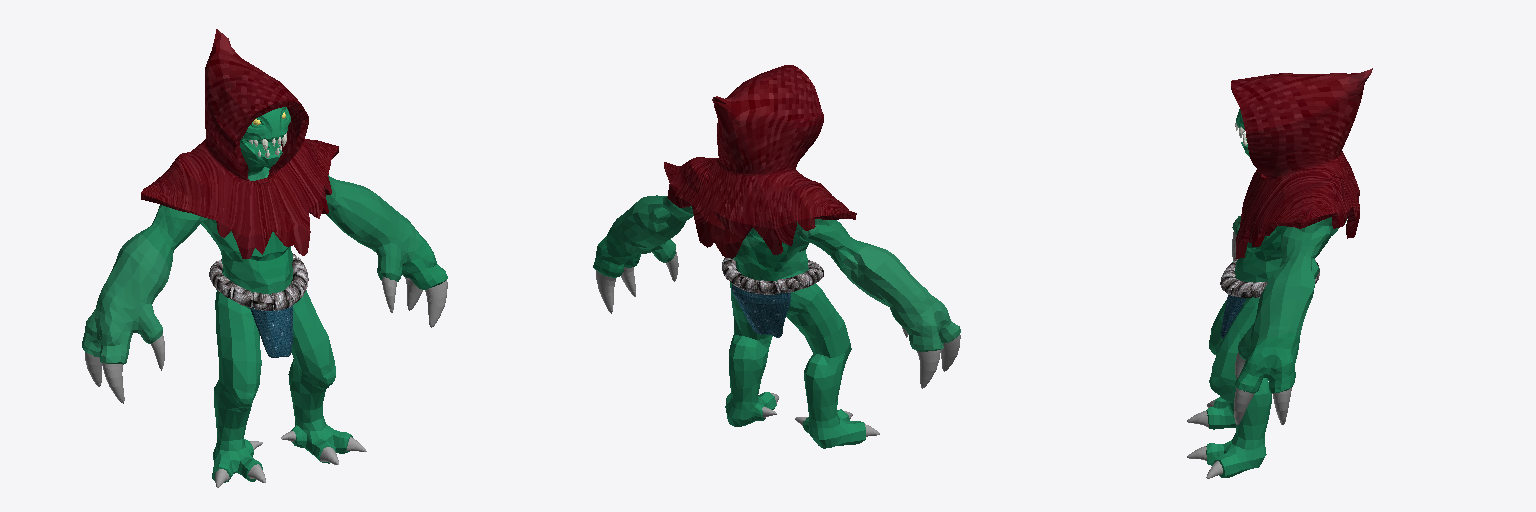
3 renders of one model, left to right at view 1: azimuth 30°, elevation 25°; view 2: azimuth 150°, elevation 25°; view 3: azimuth 270°, elevation 25°, orthographic.
Visible parts, largest first — view 1: hood_Cube.001; view 2: hood_Cube.001; view 3: hood_Cube.001.
Part boxes in pixels (left/top/right/bottom): hood_Cube.001: left=82, top=29, right=447, bottom=487; hood_Cube.001: left=593, top=65, right=960, bottom=448; hood_Cube.001: left=1187, top=68, right=1372, bottom=478.
Bounding box in the file's own units: 0.9496 × 1 × 0.4428.
8 materials, 6 textured.